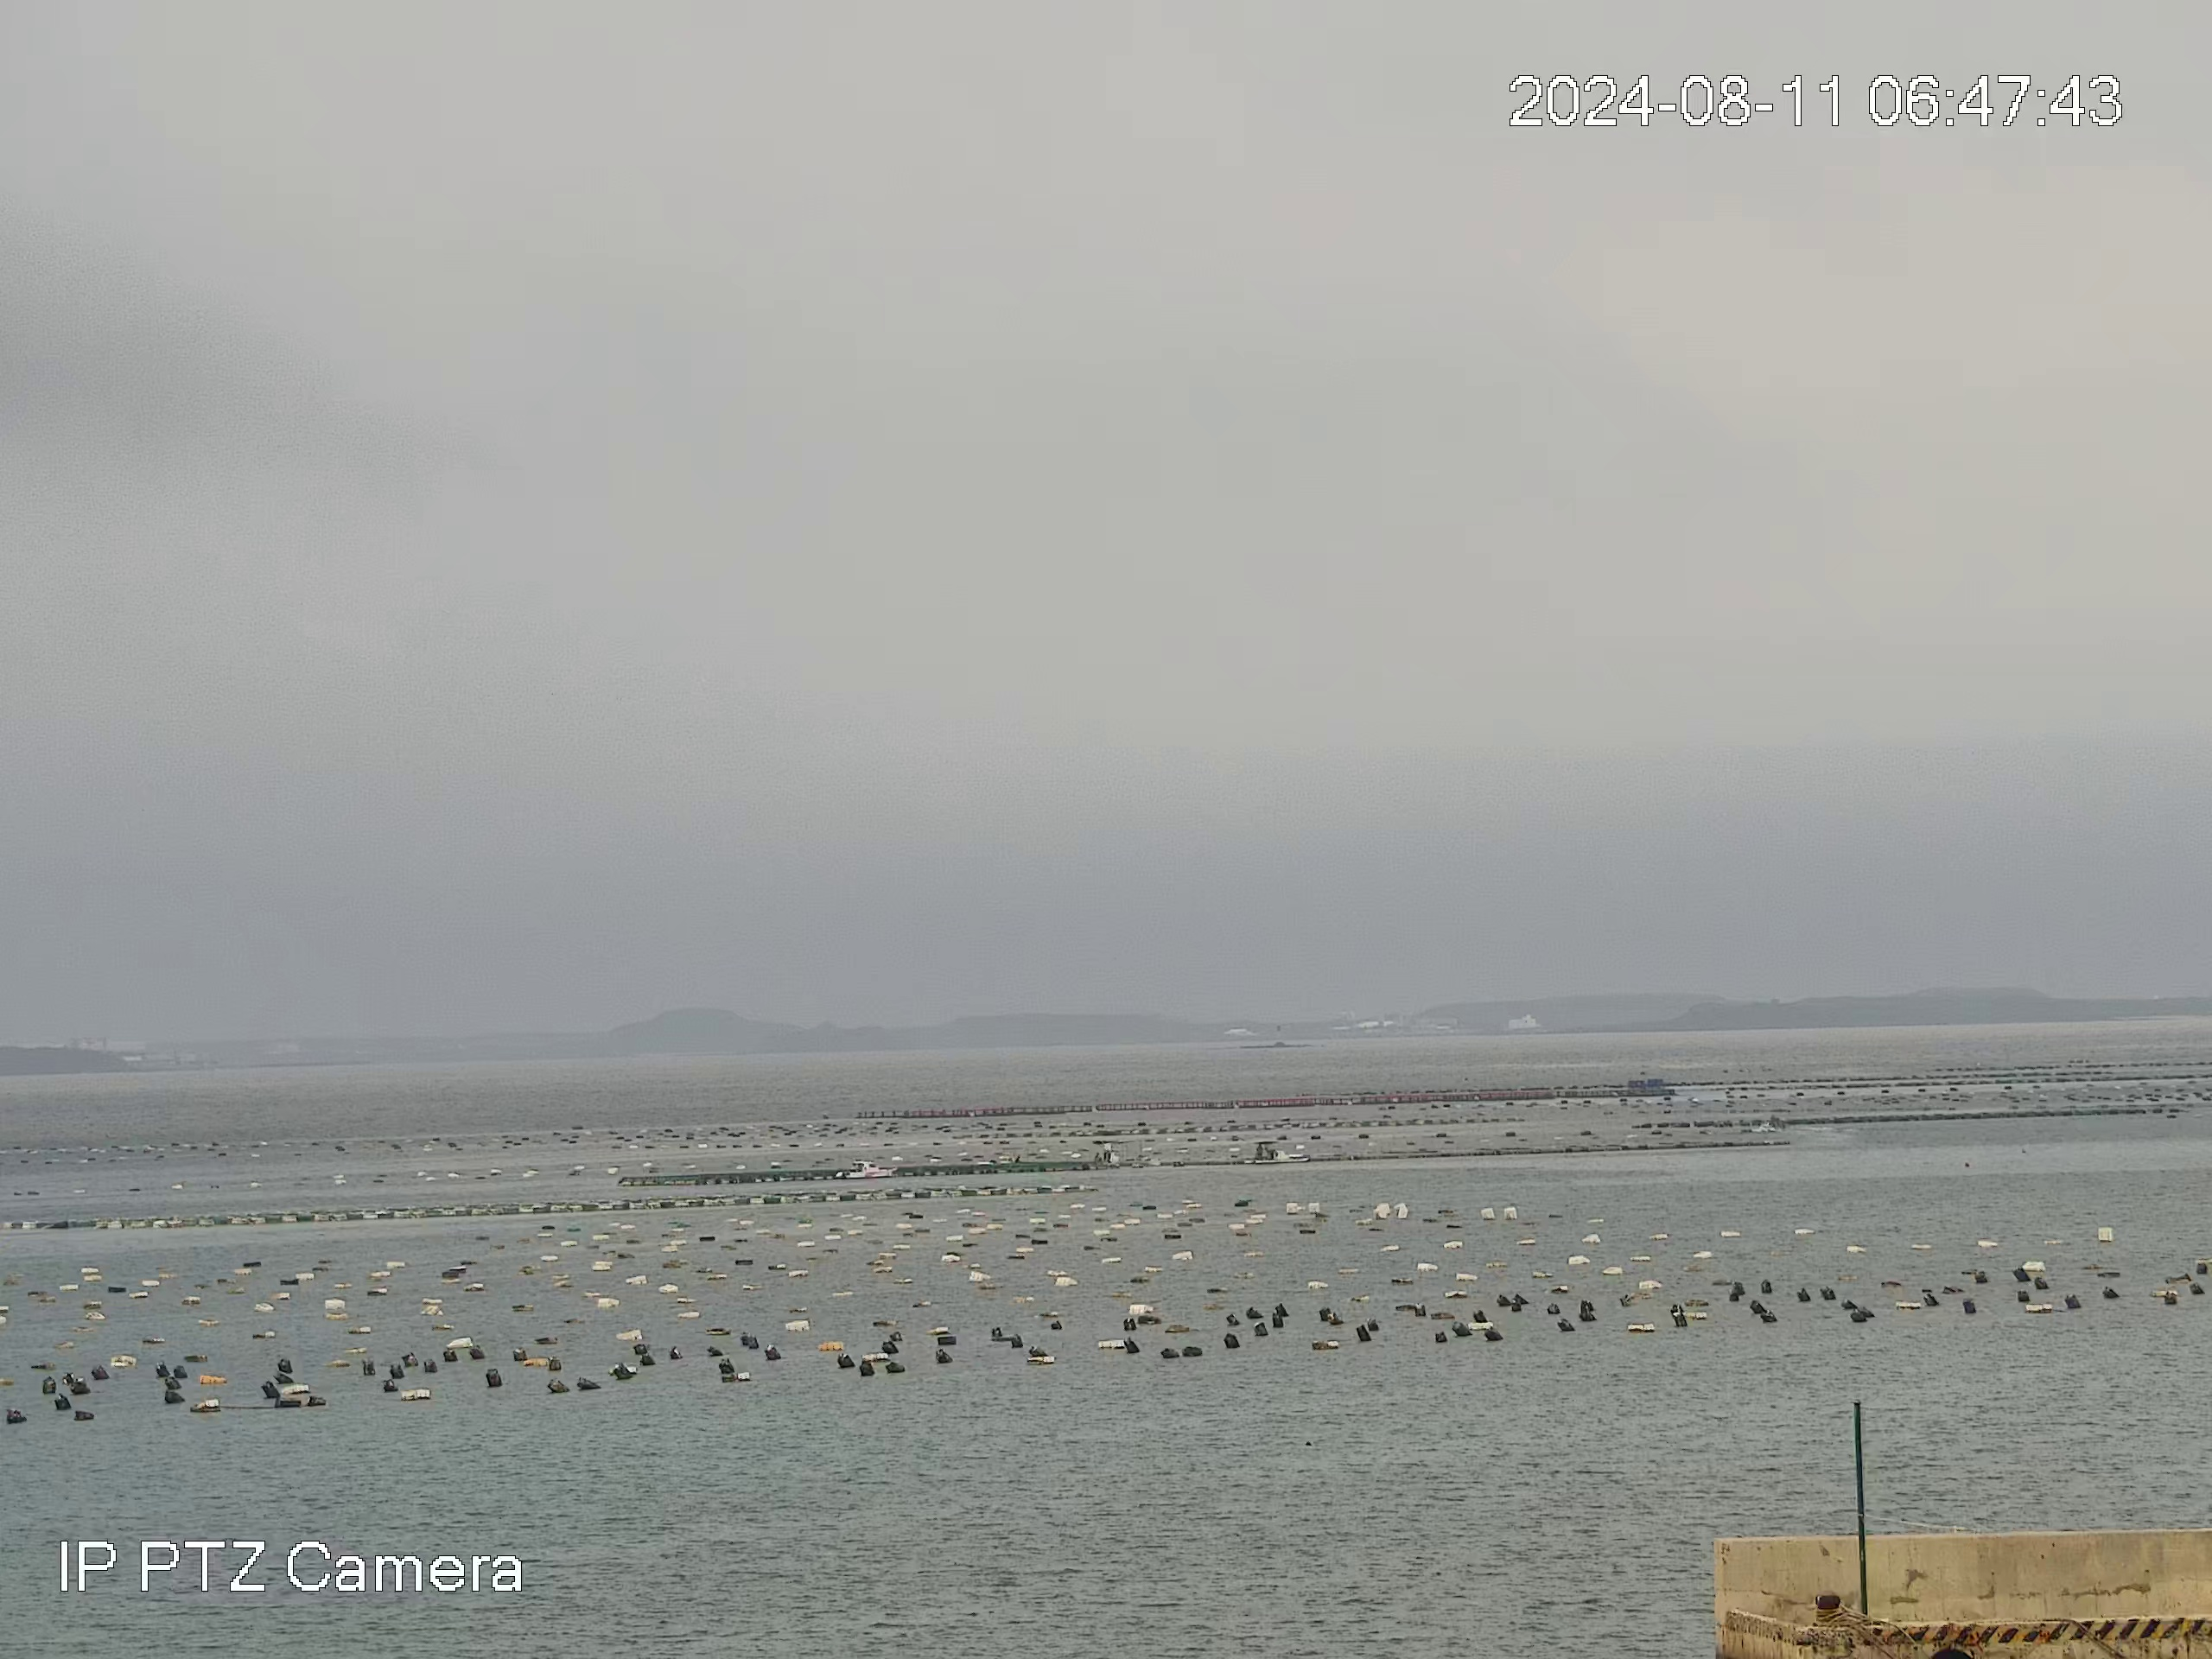boat: (1251, 1140, 1310, 1164), (833, 1159, 895, 1180)
